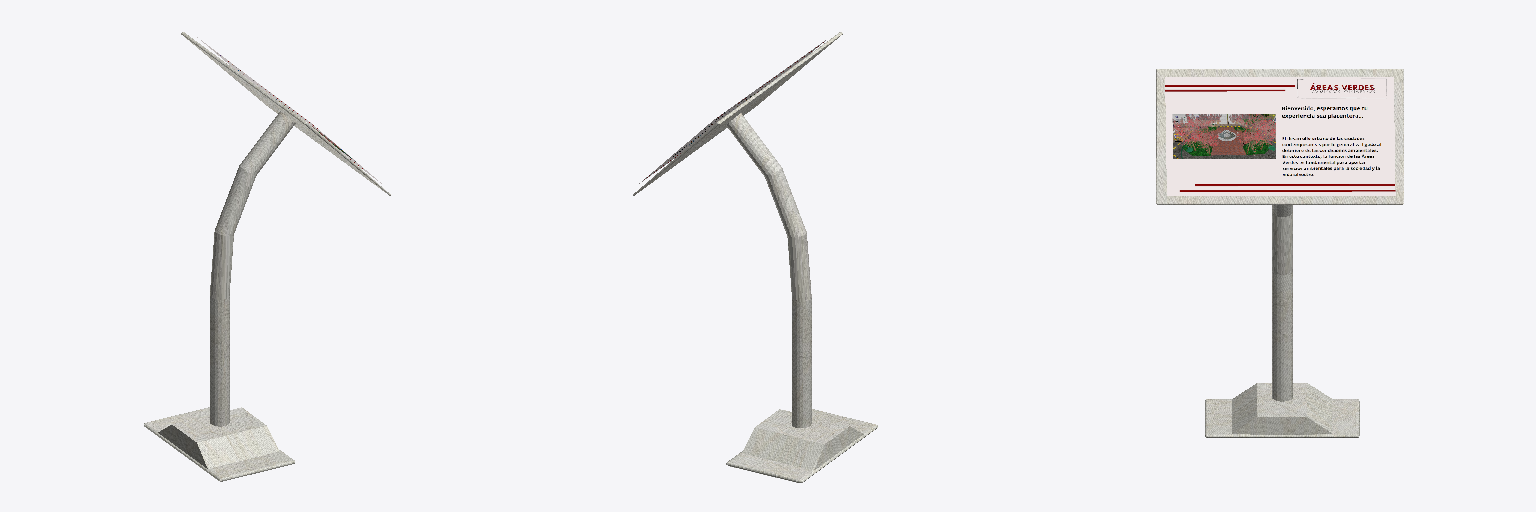
3 views of the same model, side by side, from view 1: azimuth 30°, elevation 25°; view 2: azimuth 150°, elevation 25°; view 3: azimuth 270°, elevation 25° (orthographic).
Parts seen in each view (by area): view 1: Tube001, ChamferBox001, ChamferBox002; view 2: Tube001, ChamferBox001, ChamferBox002, Plane001; view 3: Plane001, ChamferBox001, ChamferBox002, Tube001.
Boxes of the visible parts, <box> form: Tube001: <box>210,111,295,426</box>; ChamferBox001: <box>144,407,294,481</box>; ChamferBox002: <box>181,32,390,195</box>; Tube001: <box>726,113,811,427</box>; ChamferBox001: <box>726,409,877,482</box>; ChamferBox002: <box>633,32,842,195</box>; Plane001: <box>639,40,825,183</box>; Plane001: <box>1165,77,1395,195</box>; ChamferBox001: <box>1205,383,1359,437</box>; ChamferBox002: <box>1156,69,1403,204</box>; Tube001: <box>1272,205,1292,401</box>.
Bounding box in the file's own units: 10.76 × 25.3 × 15.66.
2 materials, 2 textured.